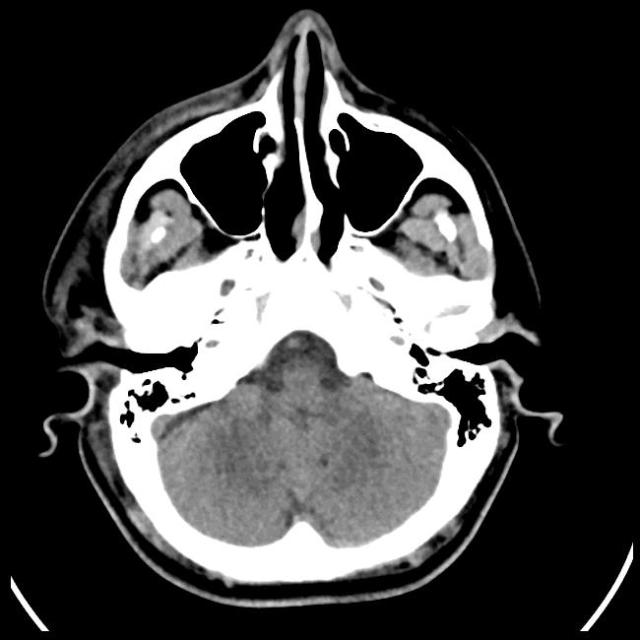lesion: (37, 10, 566, 608)
